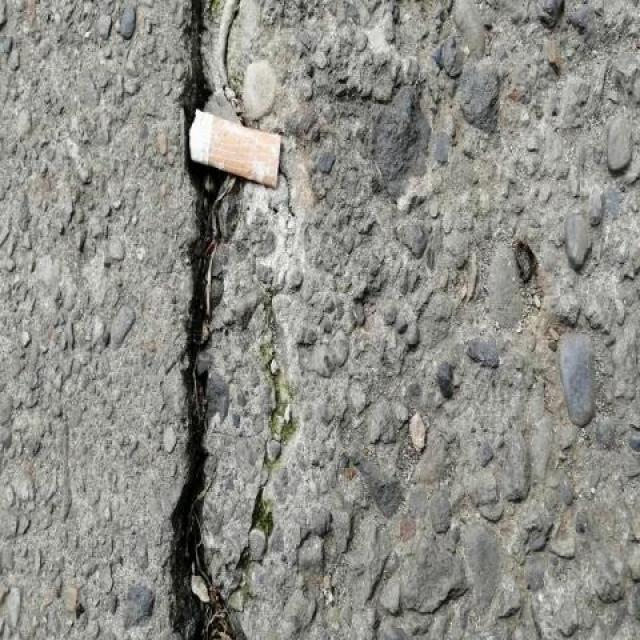non-organic waste: (186, 107, 290, 192)
